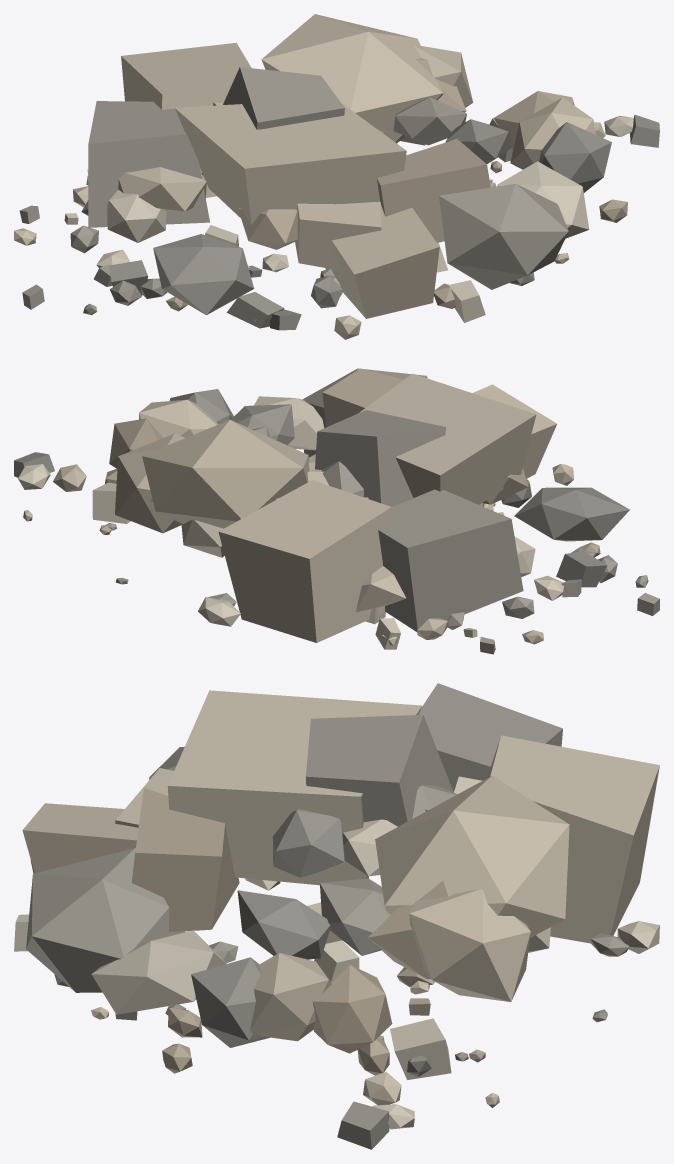
Rendered from preview.glb.
3 views of the same model, one above another, from view 1: azimuth 30°, elevation 25°; view 2: azimuth 150°, elevation 25°; view 3: azimuth 270°, elevation 25° (orthographic). The views are drawn at different scales.
Visible parts, largest first — view 1: Pile05 rock001, Pile05 rock000, Pile05 rock021, Pile05 rock016, Pile05 rock007, Pile05 rock028, Pile05 rock019, Pile05 rock002, Pile05 rock025, Pile05 rock022, Pile05 rock017, Pile05 rock008 (+20 smaller); view 2: Pile05 rock028, Pile05 rock016, Pile05 rock001, Pile05 rock000, Pile05 rock025, Pile05 rock002, Pile05 rock027, Pile05 rock019, Pile05 rock012, Pile05 rock007, Pile05 rock020, Pile05 rock026 (+18 smaller); view 3: Pile05 rock001, Pile05 rock000, Pile05 rock028, Pile05 rock021, Pile05 rock025, Pile05 rock019, Pile05 rock027, Pile05 rock016, Pile05 rock026, Pile05 rock007, Pile05 rock012, Pile05 rock023 (+16 smaller).
Part boxes in pixels (left/top/right/bottom): Pile05 rock001: left=175, top=103, right=406, bottom=224; Pile05 rock000: left=261, top=14, right=442, bottom=143; Pile05 rock021: left=439, top=183, right=568, bottom=289; Pile05 rock016: left=88, top=101, right=209, bottom=227; Pile05 rock007: left=325, top=205, right=439, bottom=318; Pile05 rock028: left=121, top=42, right=251, bottom=197; Pile05 rock019: left=377, top=139, right=490, bottom=242; Pile05 rock002: left=153, top=234, right=254, bottom=315; Pile05 rock025: left=223, top=67, right=344, bottom=129; Pile05 rock022: left=295, top=201, right=381, bottom=270; Pile05 rock017: left=539, top=122, right=611, bottom=192; Pile05 rock008: left=118, top=167, right=206, bottom=211; Pile05 rock028: left=218, top=480, right=394, bottom=642; Pile05 rock016: left=378, top=489, right=523, bottom=631; Pile05 rock001: left=359, top=373, right=536, bottom=504; Pile05 rock000: left=142, top=419, right=309, bottom=528; Pile05 rock025: left=315, top=410, right=446, bottom=506; Pile05 rock002: left=514, top=487, right=629, bottom=541; Pile05 rock027: left=115, top=433, right=184, bottom=533; Pile05 rock019: left=322, top=368, right=403, bottom=427; Pile05 rock012: left=139, top=399, right=217, bottom=437; Pile05 rock007: left=472, top=384, right=556, bottom=478; Pile05 rock020: left=231, top=404, right=294, bottom=445; Pile05 rock026: left=254, top=396, right=324, bottom=450; Pile05 rock001: left=167, top=690, right=421, bottom=885; Pile05 rock000: left=375, top=775, right=569, bottom=937; Pile05 rock028: left=487, top=735, right=659, bottom=943; Pile05 rock021: left=26, top=848, right=169, bottom=992; Pile05 rock025: left=305, top=715, right=453, bottom=826; Pile05 rock019: left=131, top=788, right=239, bottom=932; Pile05 rock027: left=409, top=889, right=530, bottom=1001; Pile05 rock016: left=418, top=683, right=562, bottom=792; Pile05 rock026: left=91, top=930, right=226, bottom=1014; Pile05 rock007: left=22, top=803, right=138, bottom=873; Pile05 rock012: left=250, top=953, right=331, bottom=1041; Pile05 rock023: left=313, top=964, right=392, bottom=1053.
Size of the model in its own units: 2.11 by 0.4926 by 1.45.
